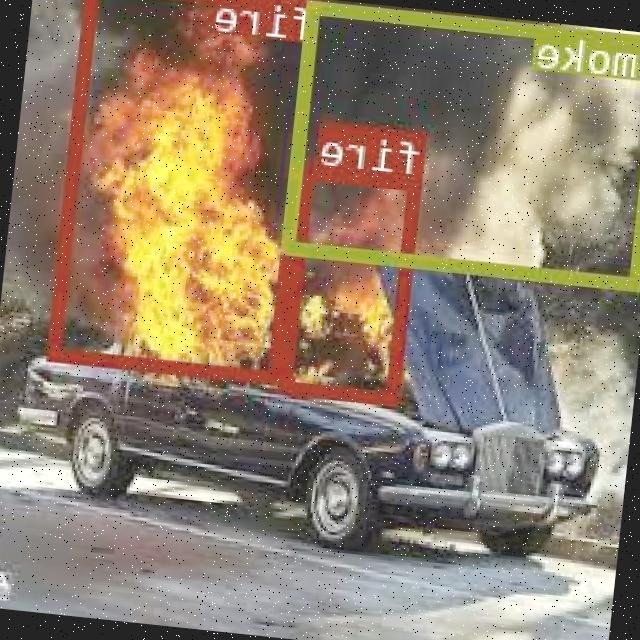fire: (50, 0, 322, 383), (281, 164, 424, 402)
smoke: (286, 0, 640, 286)
